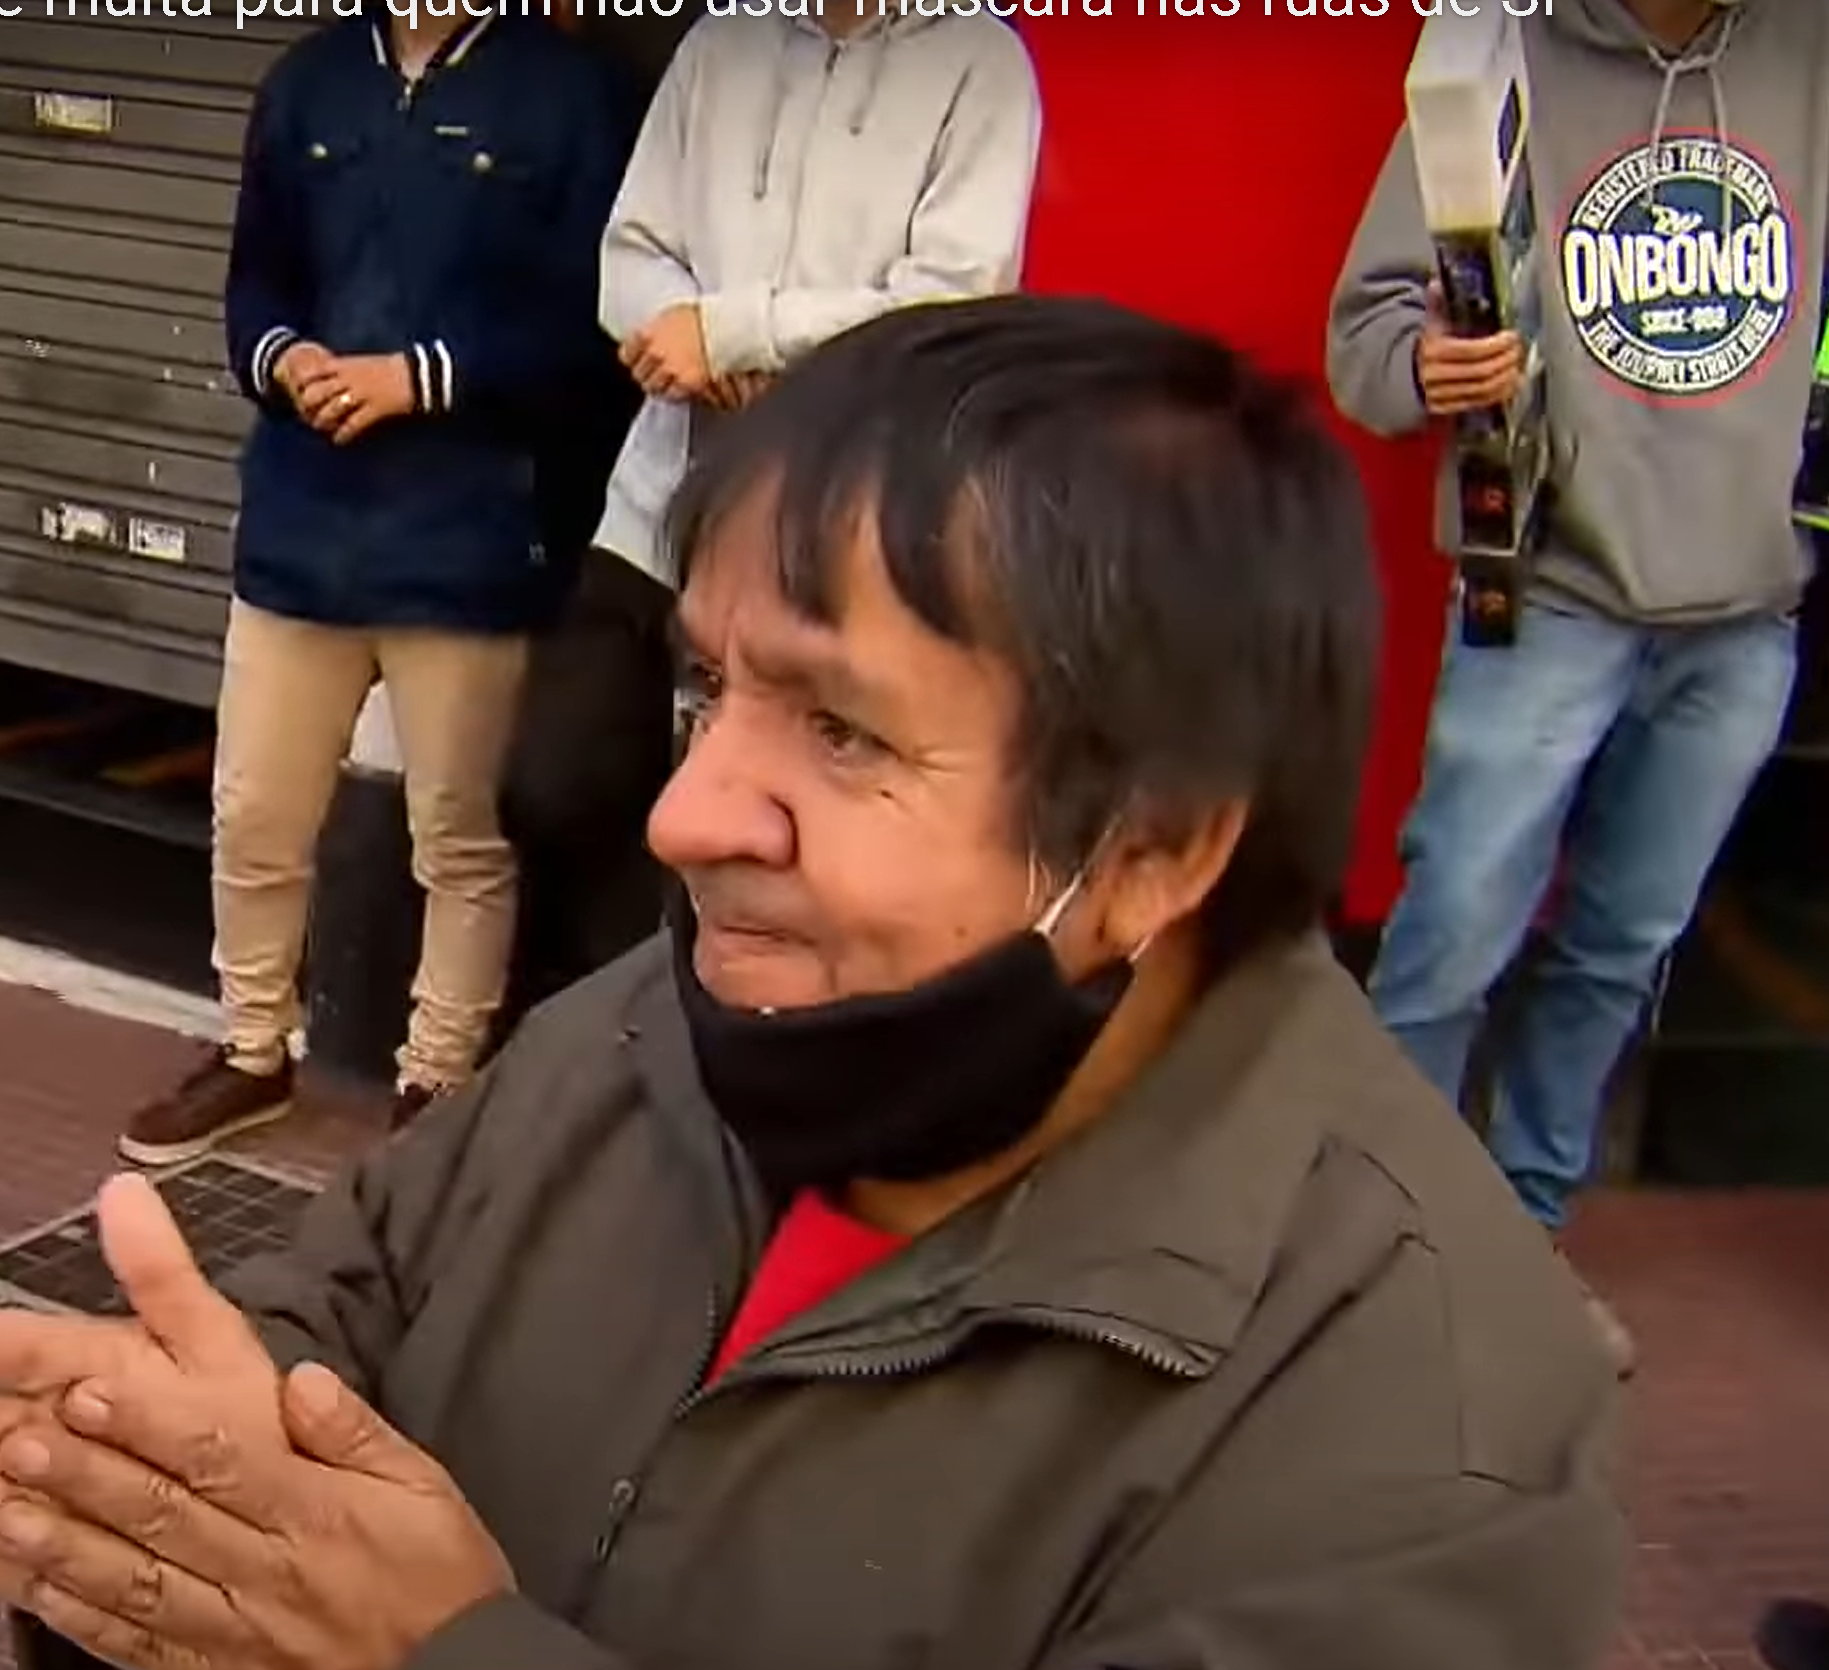mask_weared_incorrect: (621, 307, 1424, 1257)
